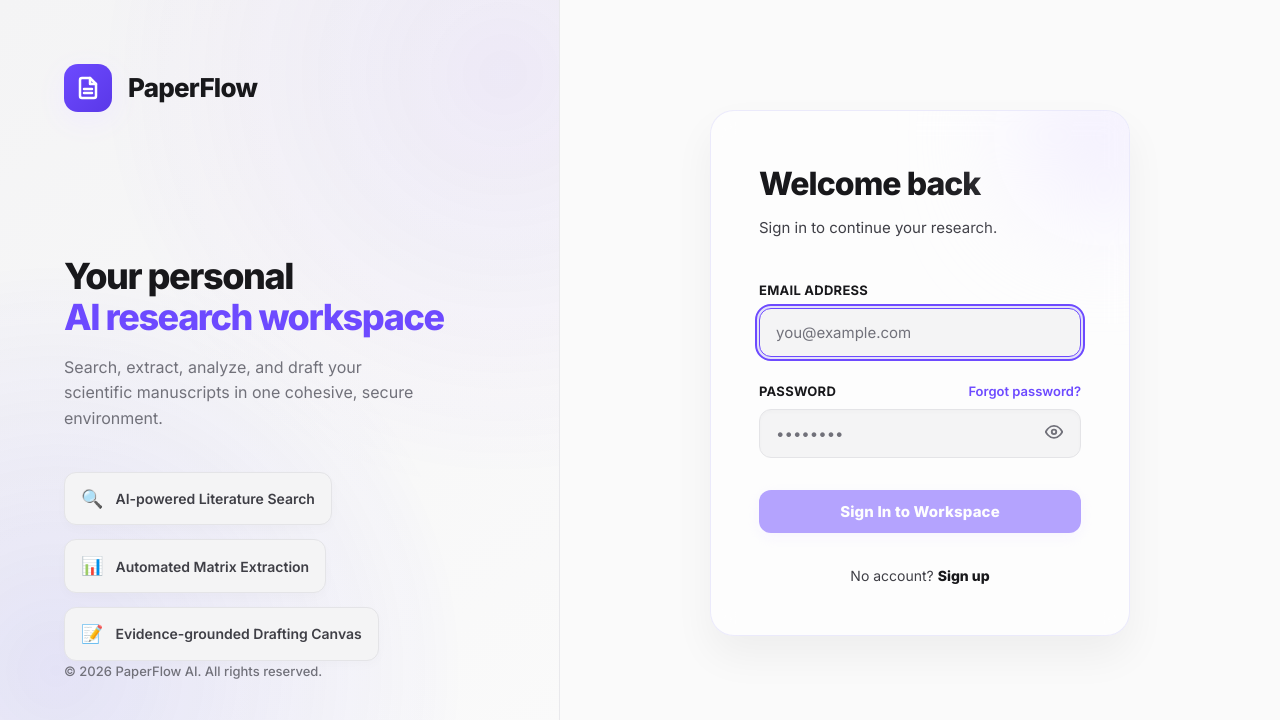
Scenario: Auth pages › shows an error for incorrect login credentials
This screenshot has width=1280, height=720.
Type "user@example.com" into the field with placeholder "you@example.com" at [920, 332], box left=759, top=308, right=1081, bottom=357
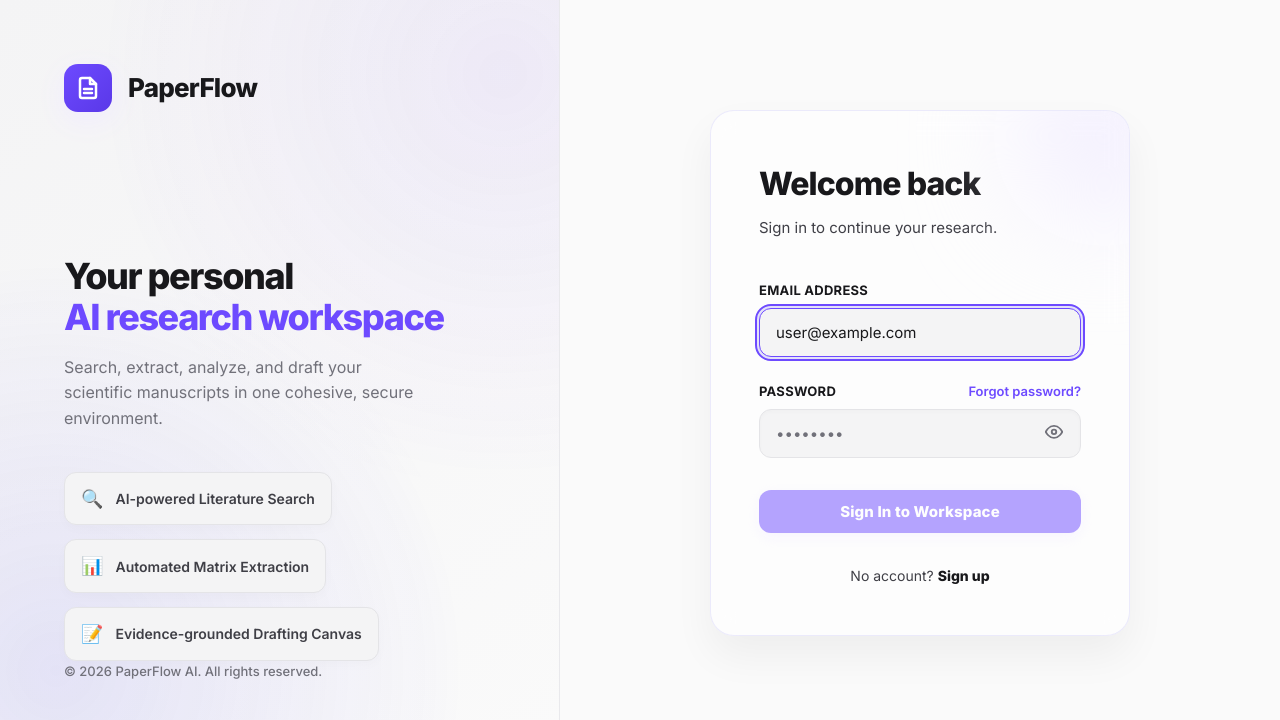
Type "wrong-password" into the password field with placeholder "••••••••" at [920, 433], box left=759, top=409, right=1081, bottom=458
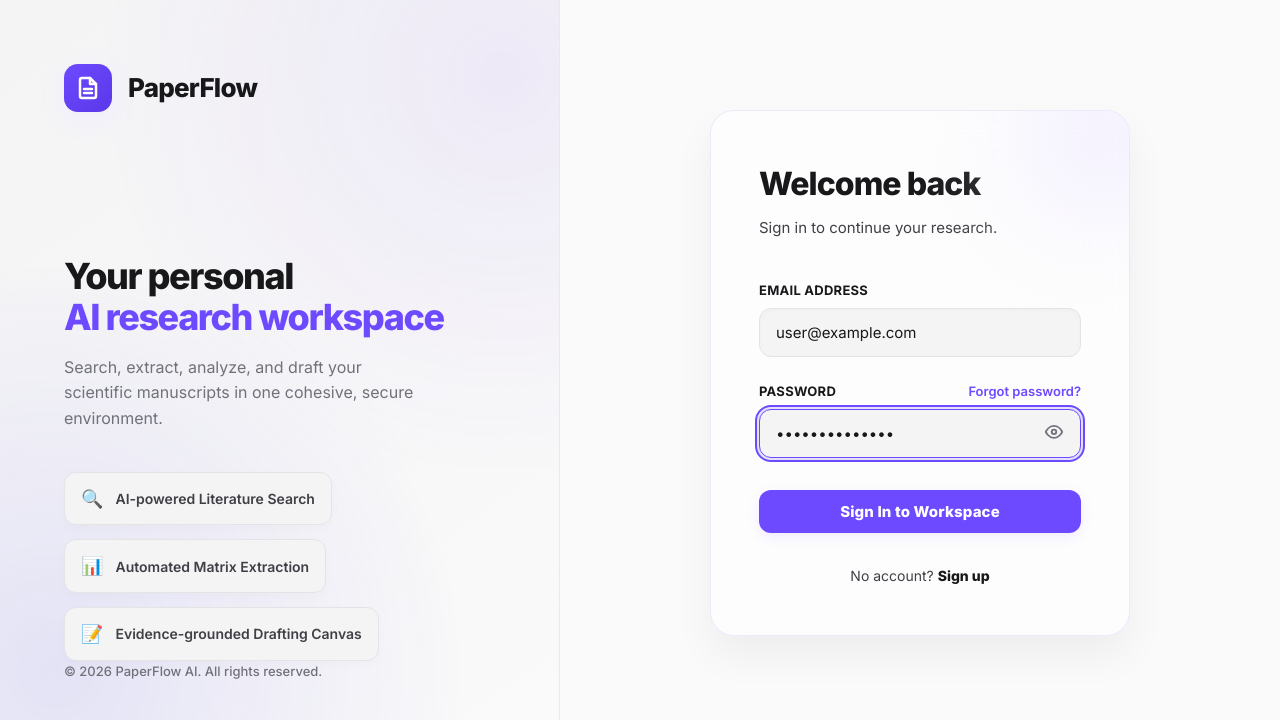
Click the button "Sign In to Workspace" at [920, 511], box left=759, top=490, right=1081, bottom=533
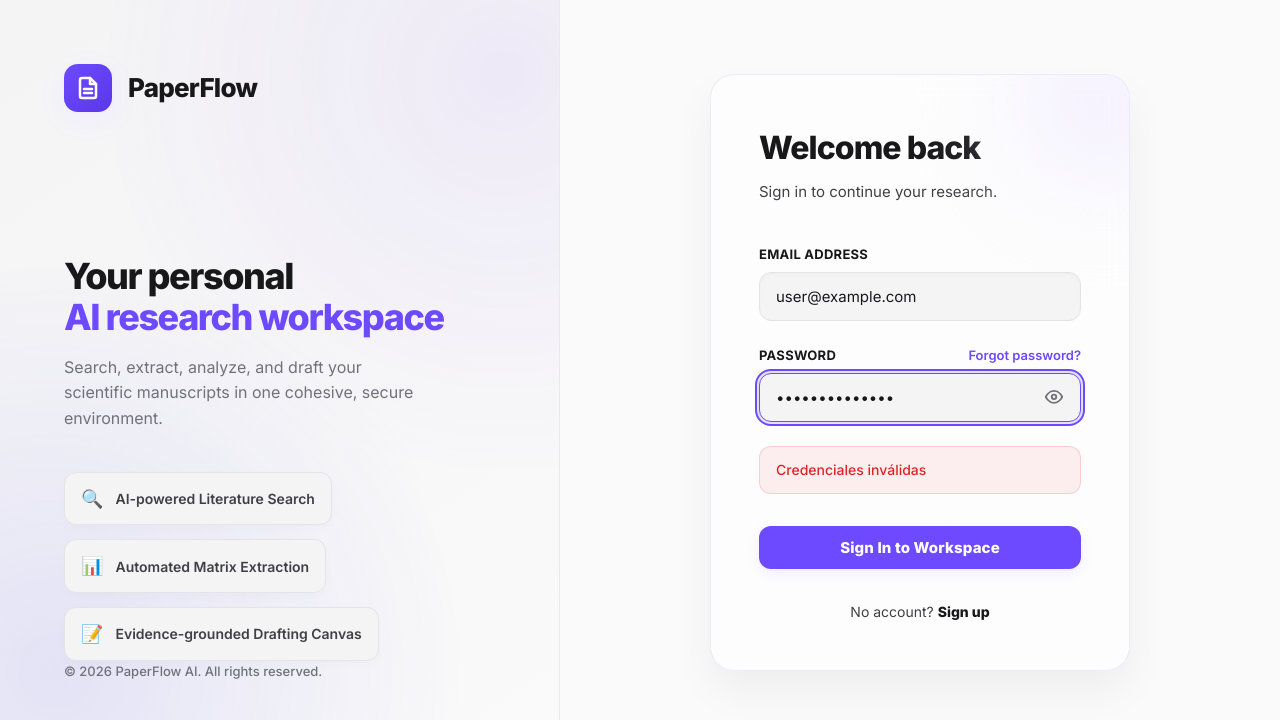
Expected: the text "Credenciales inválidas" is shown, left=759, top=446, right=1081, bottom=494
